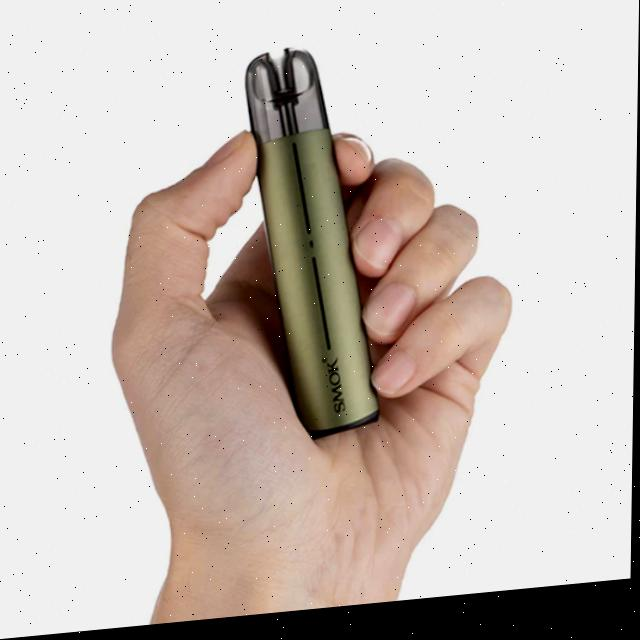vape: (241, 42, 386, 456)
